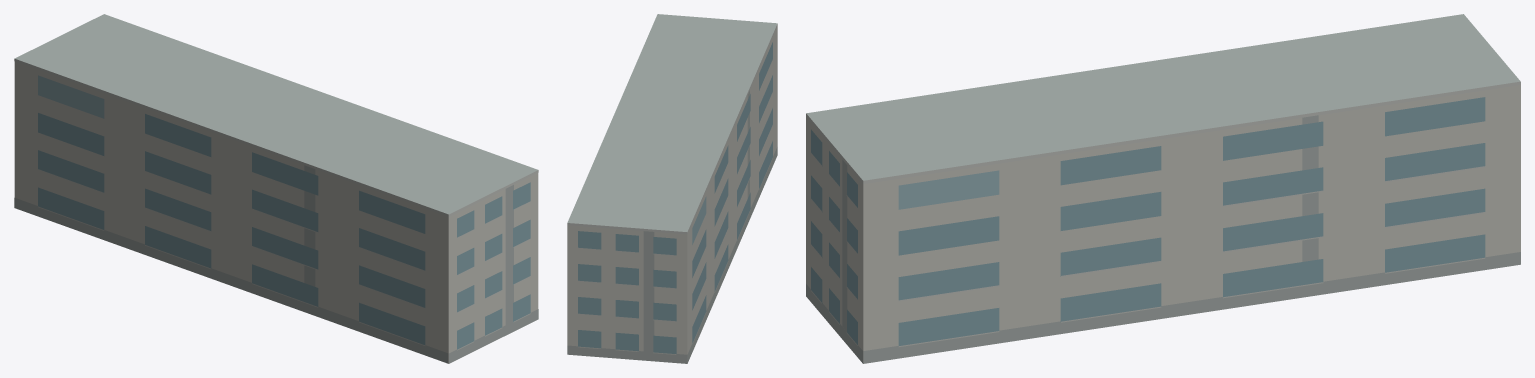
Rendered from residential-6b901a95-6151-4724-8163-83980252dcbe.glb.
3 renders of one model, left to right at view 1: azimuth 30°, elevation 25°; view 2: azimuth 150°, elevation 25°; view 3: azimuth 270°, elevation 25°, orthographic. The views are drawn at different scales.
Parts seen in each view (by area): view 1: residential-6b901a95-6151-4724-8163-83980252dcbe.tmp; view 2: residential-6b901a95-6151-4724-8163-83980252dcbe.tmp; view 3: residential-6b901a95-6151-4724-8163-83980252dcbe.tmp.
Part boxes in pixels (left/top/right/bottom): residential-6b901a95-6151-4724-8163-83980252dcbe.tmp: left=14, top=14, right=538, bottom=363; residential-6b901a95-6151-4724-8163-83980252dcbe.tmp: left=567, top=14, right=777, bottom=363; residential-6b901a95-6151-4724-8163-83980252dcbe.tmp: left=806, top=14, right=1520, bottom=363.
Size of the model in its own units: 27.36 by 14 by 49.53.
